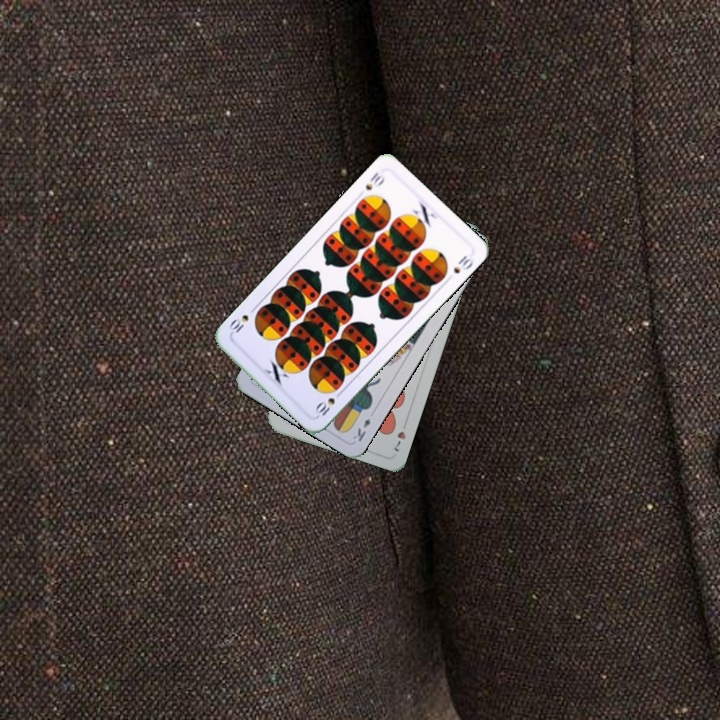EK: (349, 414, 373, 444)
H7: (390, 416, 410, 455)
S10: (311, 387, 345, 419), (361, 168, 388, 193)
